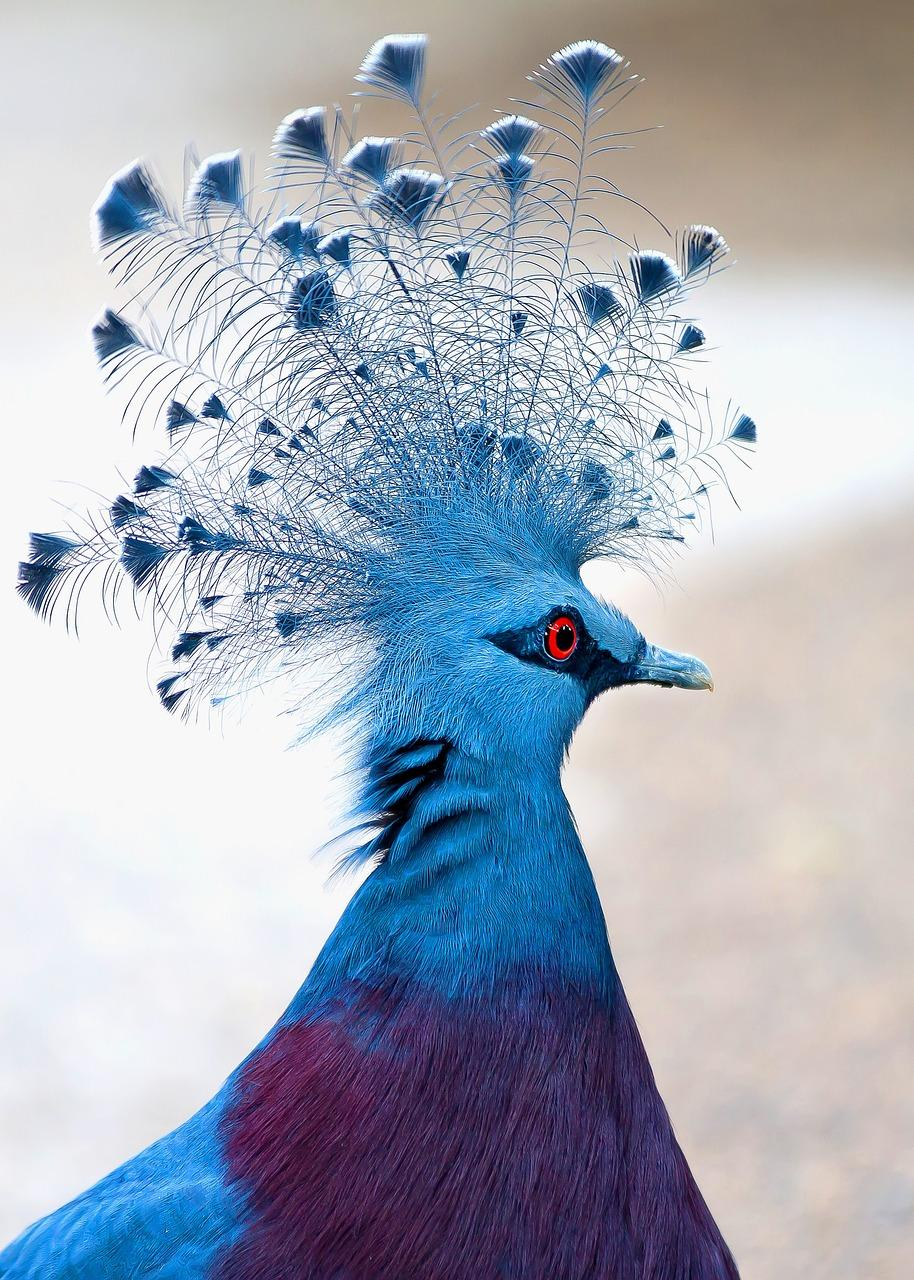bird: (3, 35, 755, 1279)
